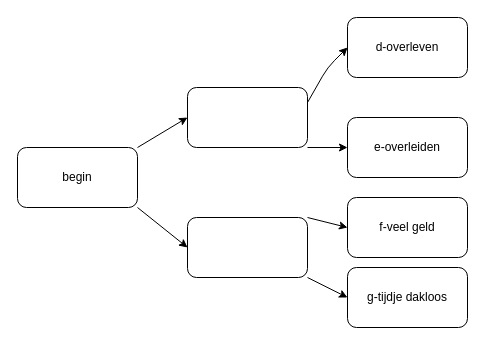
Image size: 485x345. Some labels were removed from this diagram. The shapes that lost their labels are listed below. From the top down, each one's centre as x and y in pixels, then its label:
point 247,117: c-vrachtwagen
point 247,247: b-vliegtuig
